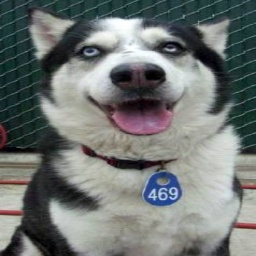dog: (20, 6, 249, 256)
